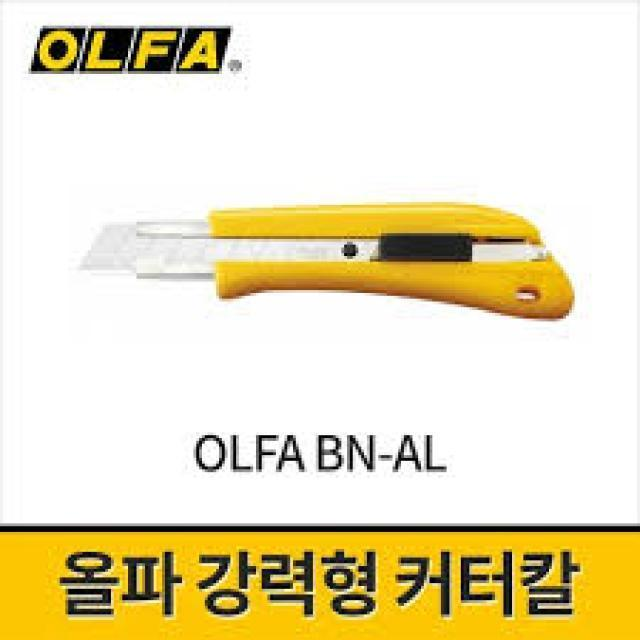cutter: (67, 206, 574, 318)
